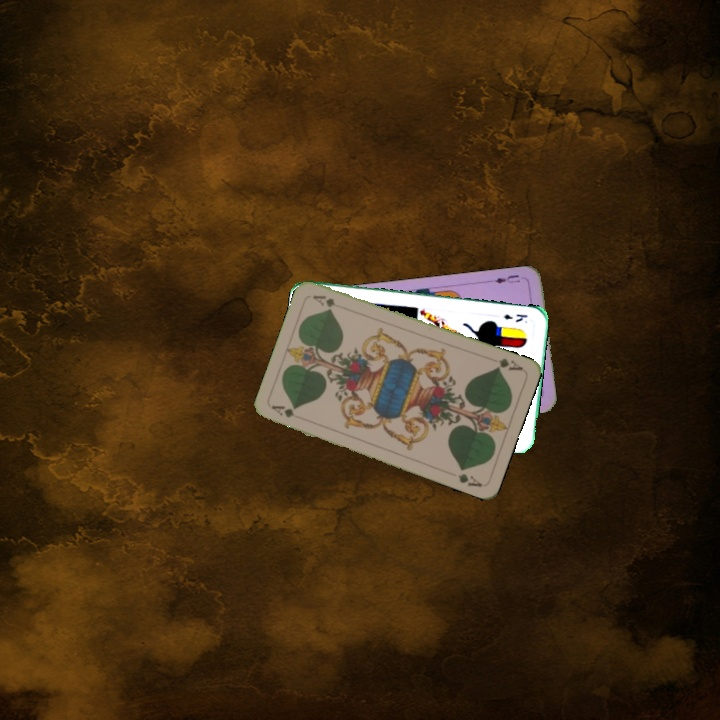EK: (499, 310, 530, 325)
EU: (490, 271, 522, 286)
GA: (492, 354, 525, 373), (268, 401, 297, 420)
